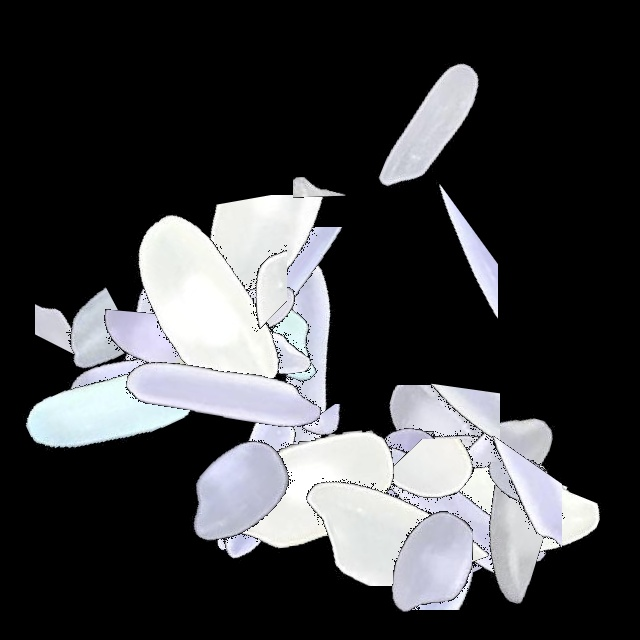Broken: (312, 385, 562, 556), (329, 390, 496, 640), (115, 194, 365, 360), (263, 420, 513, 586), (188, 211, 351, 461), (266, 478, 516, 640), (198, 227, 448, 384), (400, 390, 546, 640), (282, 390, 425, 640), (83, 260, 225, 510), (361, 390, 499, 640), (3, 219, 128, 469), (373, 159, 498, 409), (151, 195, 401, 316), (441, 390, 562, 640), (35, 173, 151, 423), (387, 317, 500, 567), (368, 462, 618, 575), (352, 467, 602, 574), (405, 389, 507, 639), (83, 466, 333, 568), (315, 439, 565, 530), (222, 404, 472, 492), (136, 257, 220, 507), (292, 526, 542, 610), (178, 462, 428, 542), (293, 30, 373, 280), (212, 160, 287, 410)
Full: (274, 390, 524, 640), (385, 390, 635, 640), (178, 242, 428, 492), (367, 373, 617, 623), (308, 1, 558, 251), (244, 382, 494, 632), (337, 344, 587, 594), (374, 340, 624, 590), (75, 225, 325, 475), (20, 217, 270, 467), (131, 345, 381, 595), (2, 271, 252, 521), (89, 222, 339, 472), (299, 390, 549, 640), (280, 358, 530, 608), (375, 390, 625, 640), (0, 276, 250, 526), (324, 390, 574, 640), (80, 183, 330, 433), (176, 364, 426, 614), (109, 367, 359, 617), (97, 269, 347, 519)
